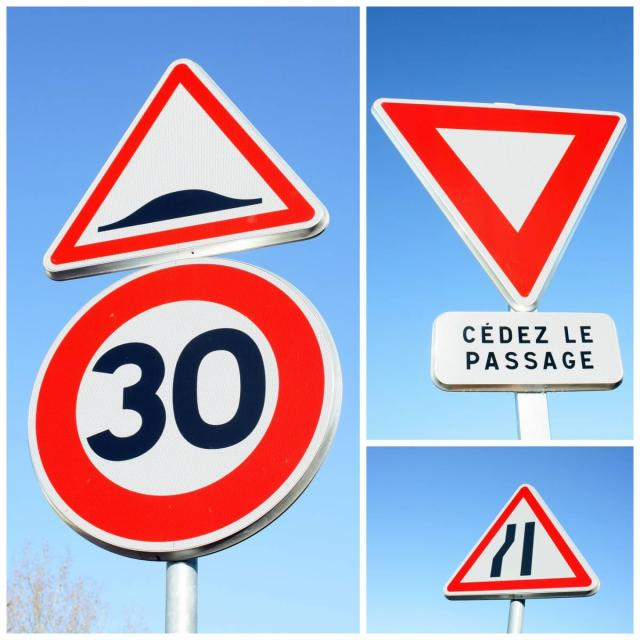danger: (44, 55, 333, 281), (443, 485, 602, 600)
let_go: (375, 98, 631, 390), (372, 99, 631, 311)
speed_30: (28, 256, 344, 562)
